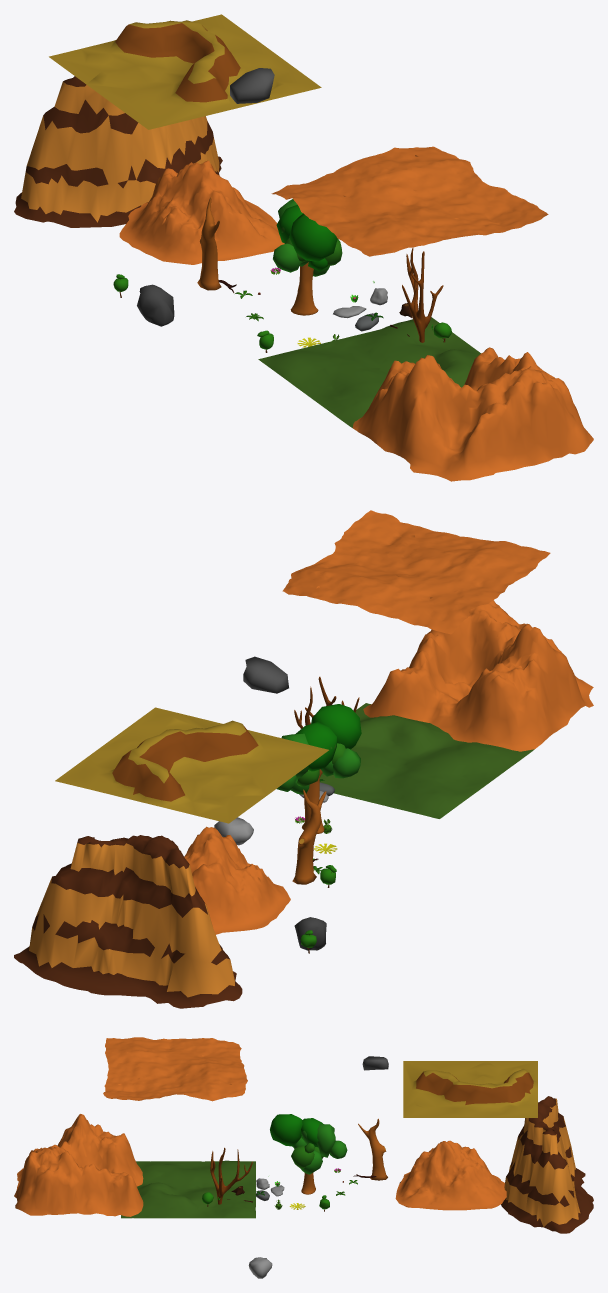
Rendered from smoothenv.obj.
3 views of the same model, one above another, from view 1: azimuth 30°, elevation 25°; view 2: azimuth 150°, elevation 25°; view 3: azimuth 270°, elevation 25° (orthographic). The views are drawn at different scales.
Visible parts, largest first — view 1: Tree_2_Mesh; view 2: Tree_2_Mesh; view 3: Tree_2_Mesh.
Part boxes in pixels (box(x1,y1,x2,y2)): Tree_2_Mesh: box(14, 14, 593, 481); Tree_2_Mesh: box(14, 510, 593, 1008); Tree_2_Mesh: box(14, 1037, 593, 1278).
Bounding box in the file's own units: 27.75 × 29.69 × 86.12.
